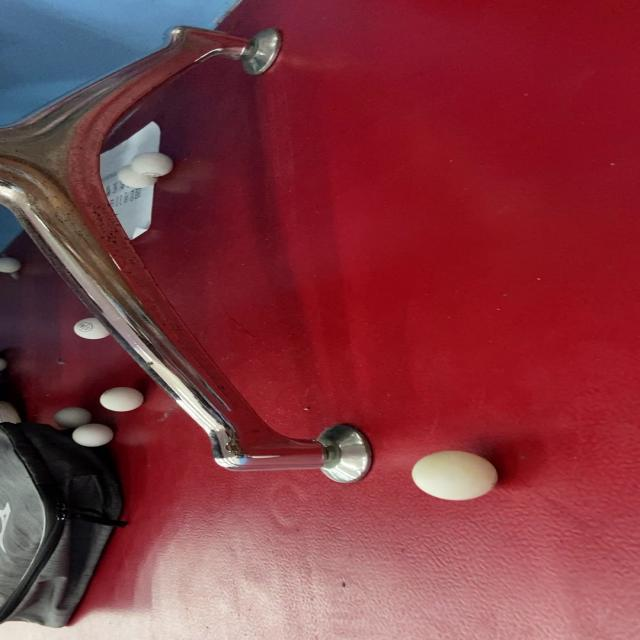ping-pong-ball: (412, 449, 501, 502), (129, 151, 176, 178), (98, 386, 146, 412), (71, 422, 115, 448), (72, 316, 116, 342), (116, 165, 162, 189), (50, 404, 94, 428), (0, 256, 22, 275)
